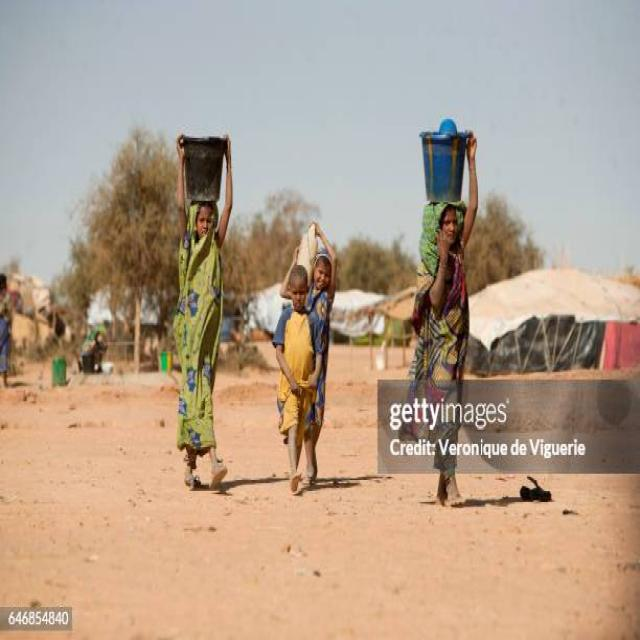civilian: (407, 129, 483, 504), (171, 136, 234, 490), (288, 225, 342, 481), (273, 275, 324, 481)
